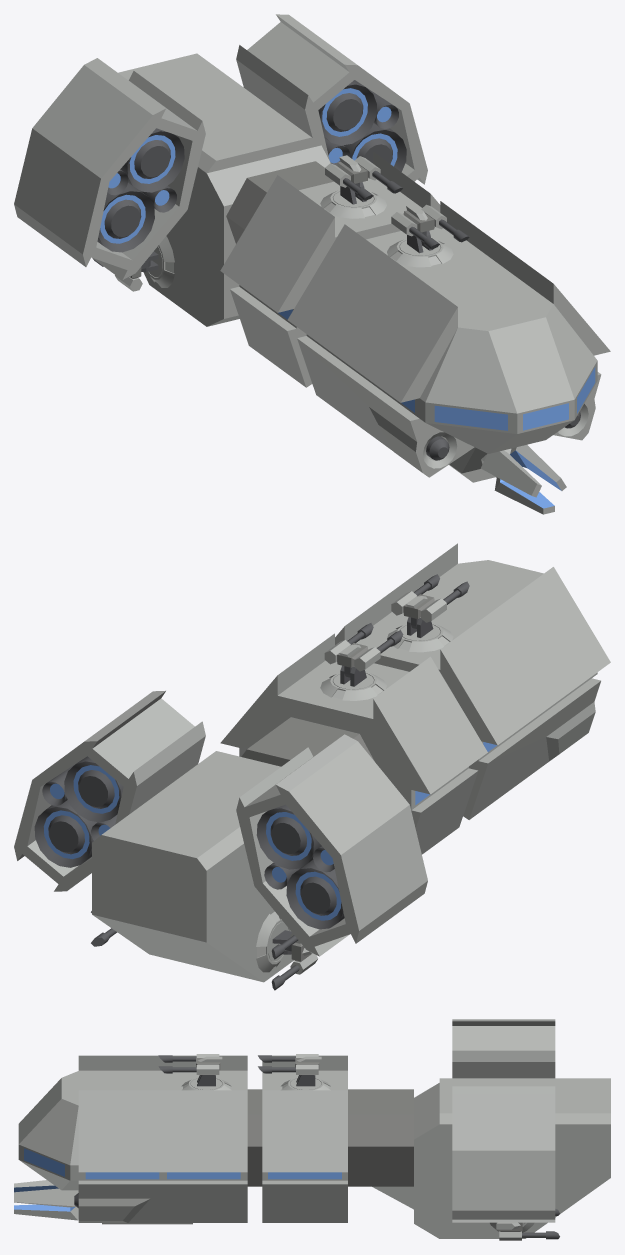
The model's file is starship.glb.
The picture shows the model from 3 angles, top to bottom: view 1: azimuth 30°, elevation 25°; view 2: azimuth 150°, elevation 25°; view 3: azimuth 270°, elevation 25°; orthographic projection. The views are drawn at different scales.
Parts seen in each view (by area): view 1: Starship; view 2: Starship; view 3: Starship.
Boxes of the visible parts, <box> form: Starship: <box>14,14,610,514</box>; Starship: <box>14,543,610,990</box>; Starship: <box>14,1019,610,1240</box>.
Size of the model in its own units: 30.14 by 18.37 by 60.48.
